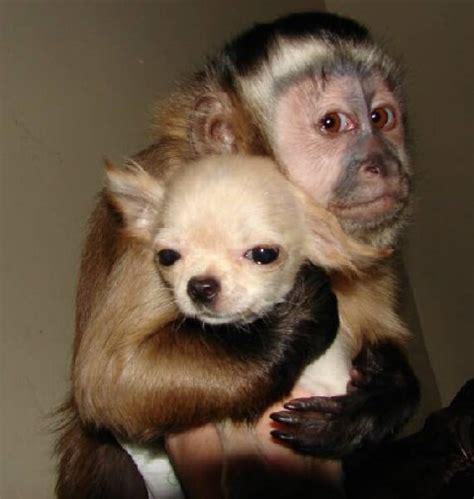dog: (106, 156, 407, 339)
monkey: (57, 12, 474, 499)
